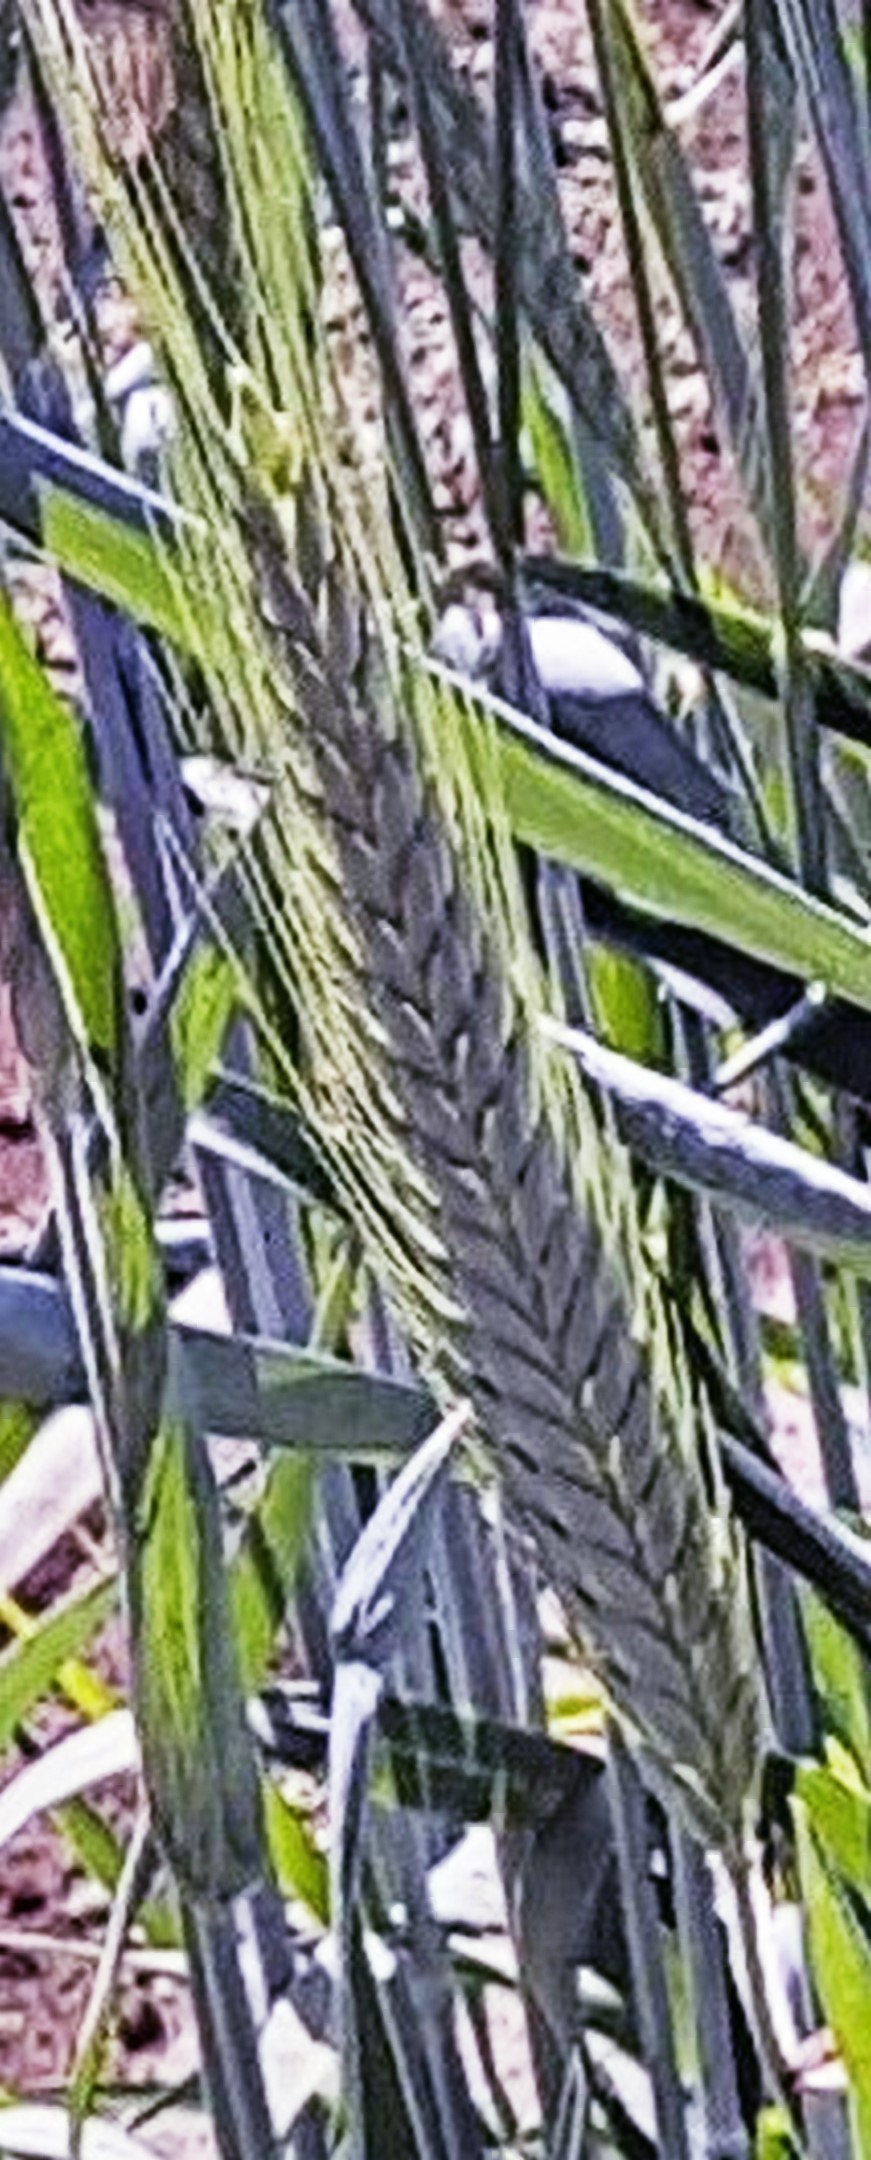Healthy Wheat: (201, 489, 808, 1810)
